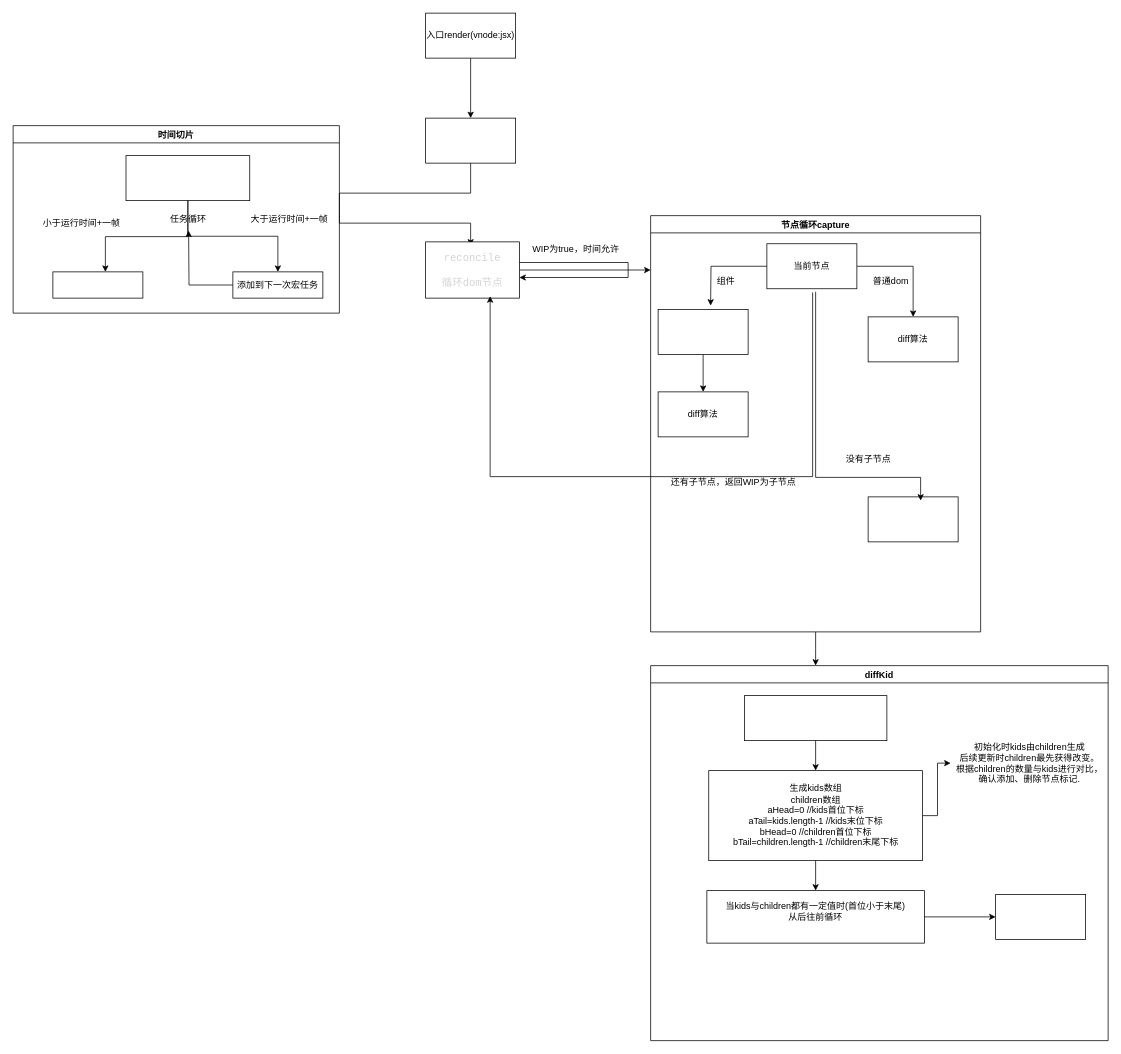
Image size: 1121x1054. Some labels were removed from this diagram. Each missing label, with the centre of its shape:
clone节点: the point at 1040,916
update: the point at 470,140
不停的循环任务: the point at 97,284
入口(节点对象，节点子集): the point at 815,718
组件函数(props): the point at 702,331
运行时间( performance.now() ): the point at 187,178
